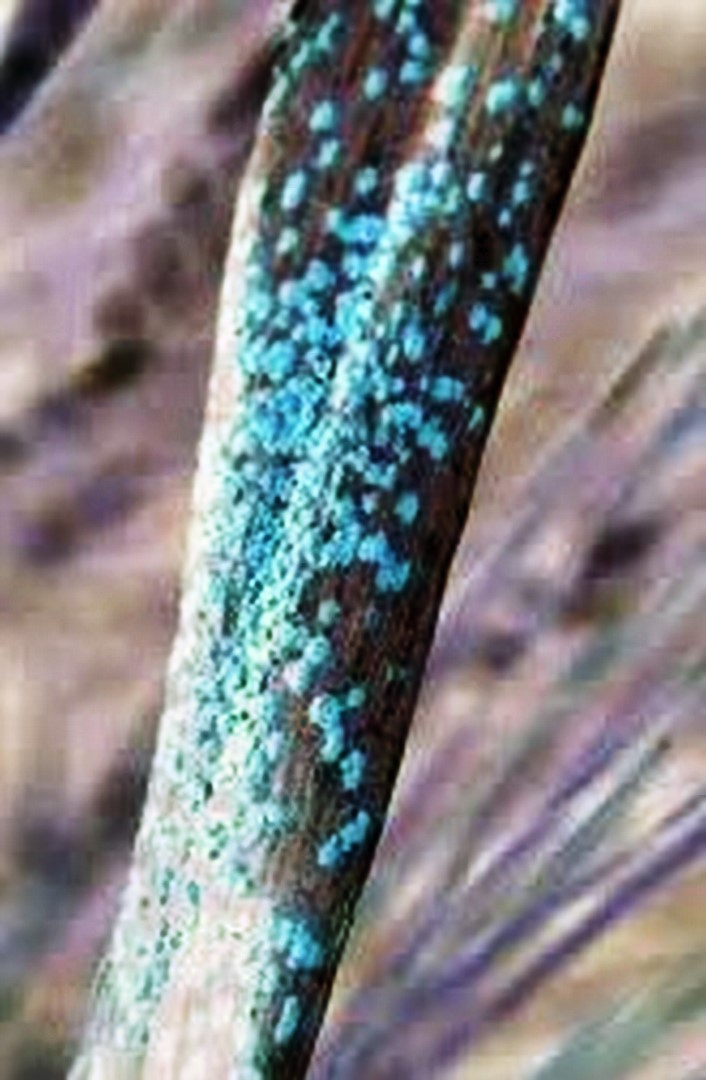Leaf Rust: (183, 1, 587, 515)
